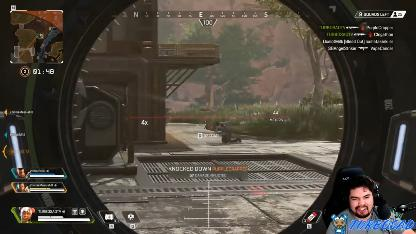Target: (165, 105, 171, 124)
